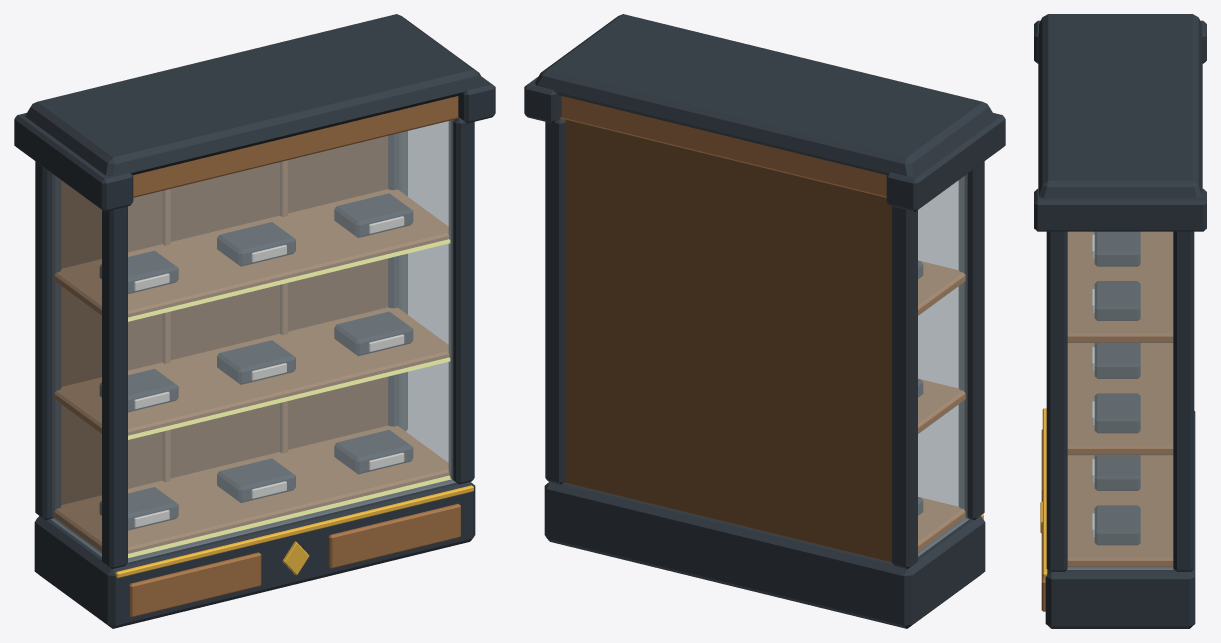
File: Gallery_Cabinet.fbx
The picture shows the model from 3 angles, left to right: view 1: azimuth 30°, elevation 25°; view 2: azimuth 150°, elevation 25°; view 3: azimuth 270°, elevation 25°; orthographic projection. The views are drawn at different scales.
Visible parts, largest first — view 1: Glass, FrameDark, Wood, WoodDark, Lamp, Cream_SmoothPlastic, Amber_Metal; view 2: WoodDark, FrameDark, Glass, Wood; view 3: FrameDark, Glass, Wood, Amber_Metal, Cream_SmoothPlastic.
Part boxes in pixels (x1,y1,x2,y2): Glass: (51, 120, 455, 562); FrameDark: (14, 14, 495, 628); Wood: (54, 96, 460, 617); WoodDark: (61, 136, 388, 504); Lamp: (128, 239, 450, 557); Cream_SmoothPlastic: (134, 216, 404, 527); Amber_Metal: (115, 485, 473, 577); WoodDark: (564, 119, 891, 562); FrameDark: (524, 14, 1005, 628); Glass: (918, 174, 968, 556); Wood: (560, 96, 965, 551); FrameDark: (1034, 14, 1206, 628); Glass: (1067, 231, 1173, 569); Wood: (1041, 231, 1173, 611); Amber_Metal: (1040, 408, 1047, 577); Cream_SmoothPlastic: (1092, 234, 1094, 537).
Size of the model in its own units: 7.5 by 8.61 by 3.
